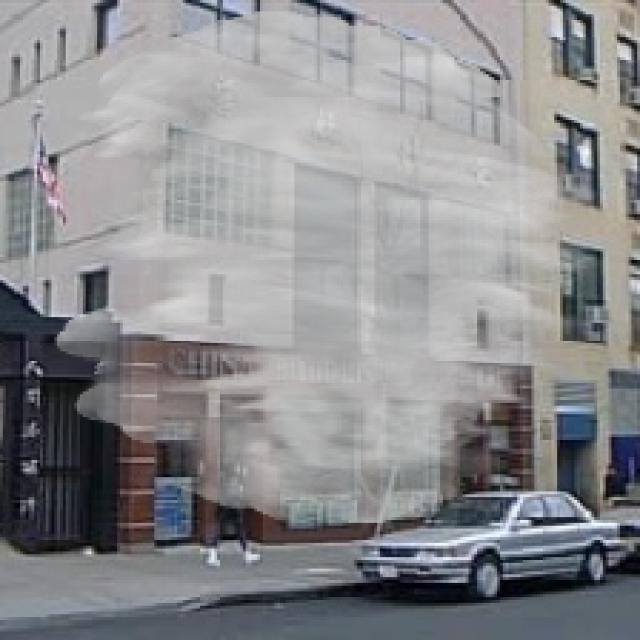smoke: (54, 11, 603, 526)
